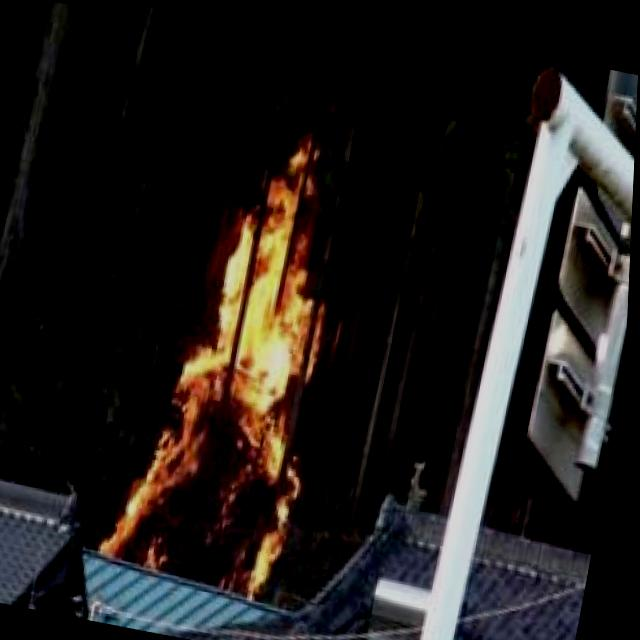helmet: (110, 121, 365, 604)
